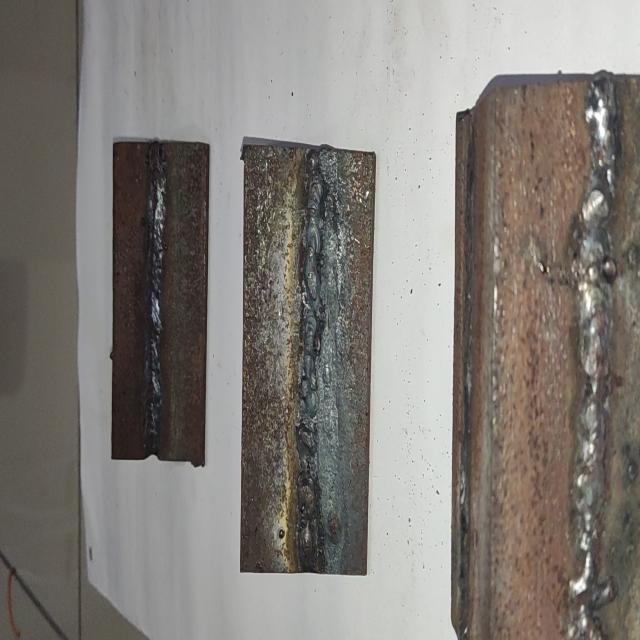Bad Weld: (572, 77, 615, 639), (296, 155, 338, 573)
Defect: (565, 77, 620, 214), (295, 353, 328, 565)
Good Weld: (143, 144, 167, 456)
